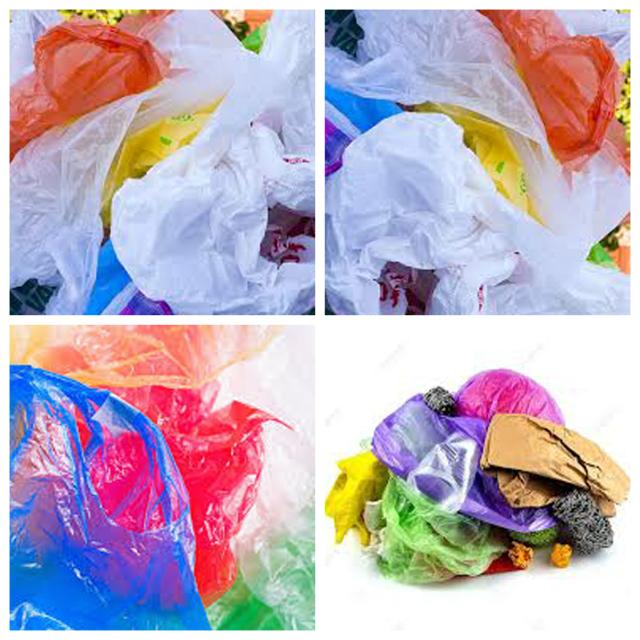Single-layer Plastic: (11, 325, 292, 604), (10, 11, 244, 314), (325, 10, 629, 240), (111, 11, 315, 314), (326, 112, 629, 314), (10, 365, 210, 630), (372, 395, 558, 532), (208, 422, 315, 630), (10, 19, 169, 158), (482, 10, 620, 162), (10, 325, 284, 389), (379, 475, 508, 583), (455, 369, 565, 425), (325, 451, 389, 545)
